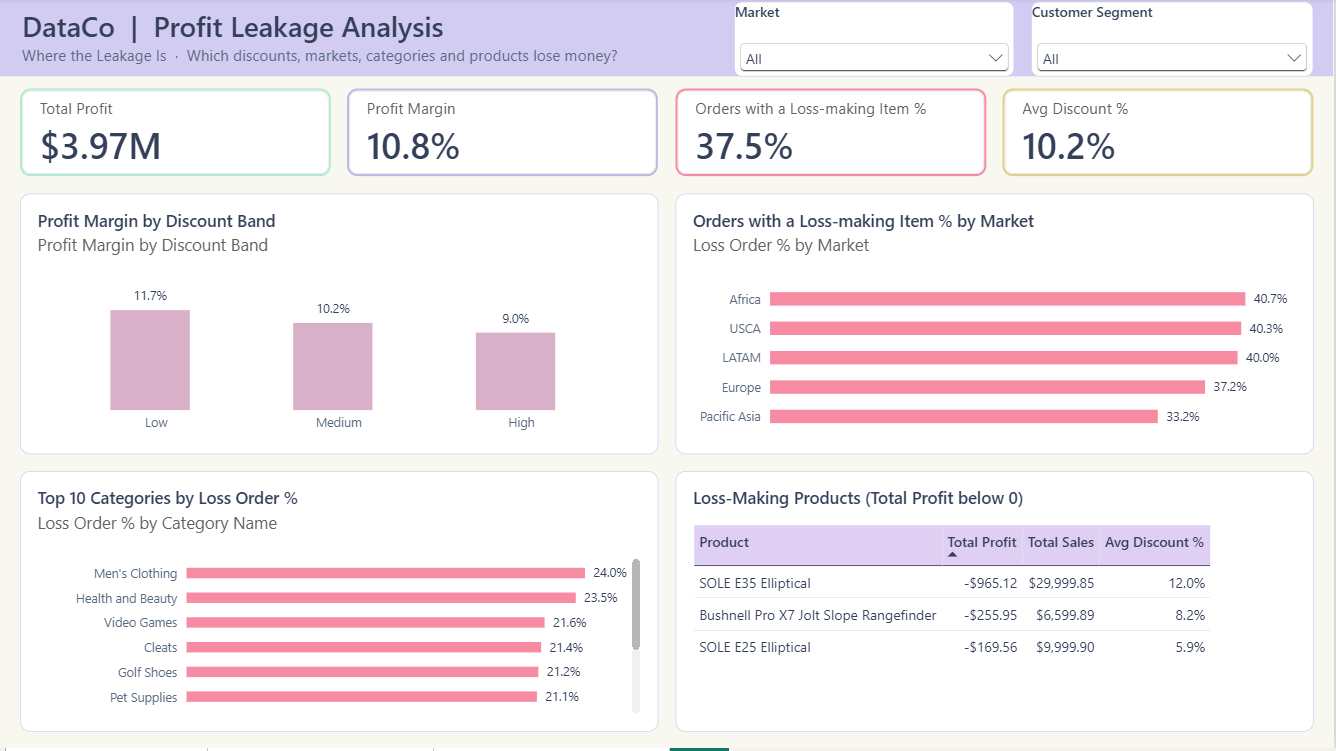

Layout of this report page (visuals, bound fields, positions):
{"tool":"powerbi","page":{"name":"Where the Leakage Is","canvas":[1280,720],"ordinal":2},"visuals":[{"type":"textbox","box":[0,0,1280,76],"z":0},{"type":"slicer","title":"Market","fields":{"Values":["DataCo_Orders.Market"]},"box":[704.7,4.3,268.9,71.9],"z":3000},{"type":"slicer","title":"Customer Segment","fields":{"Values":["DataCo_Orders.Customer Segment"]},"box":[989.4,4.3,270.4,71.9],"z":4000},{"type":"cardVisual","fields":{"Data":["DataCo_Orders.Total_Profit"]},"box":[20,88,298,84],"z":10000},{"type":"cardVisual","fields":{"Data":["DataCo_Orders.Profit_Margin"]},"box":[334,88,298,84],"z":11000},{"type":"cardVisual","fields":{"Data":["DataCo_Orders.Loss Order %"]},"box":[648,88,298,84],"z":12000},{"type":"cardVisual","fields":{"Data":["DataCo_Orders.Avg_Discount_Percentage"]},"box":[962,88,298,84],"z":13000},{"type":"clusteredColumnChart","title":"Profit Margin by Discount Band","fields":{"Category":["DataCo_Orders.Discount Band"],"Y":["DataCo_Orders.Profit_Margin"]},"box":[20,188,612,250],"z":20000},{"type":"clusteredBarChart","title":"Orders with a Loss-making Item % by Market","fields":{"Category":["DataCo_Orders.Market"],"Y":["DataCo_Orders.Loss Order %"]},"box":[648,188,612,250],"z":21000},{"type":"clusteredBarChart","title":"Top 10 Categories by Loss Order %","fields":{"Category":["DataCo_Orders.Category Name"],"Y":["DataCo_Orders.Loss Order %"]},"box":[20,454,612,250],"z":22000},{"type":"tableEx","title":"Loss-Making Products (Total Profit below 0)","fields":{"Values":["DataCo_Orders.Product Name","DataCo_Orders.Total_Profit","DataCo_Orders.Total Sales","DataCo_Orders.Avg_Discount_Percentage"]},"box":[648,454,612,250],"z":23000}]}

Visuals, with their boxes in screenshot pixels (x1, y1, x2, y2), scaled from the page's 1280x720 canvas onto the 1336x751 screenshot:
textbox: box(0, 0, 1335, 79)
"Market" slicer: box(736, 4, 1016, 79)
"Customer Segment" slicer: box(1033, 4, 1315, 79)
cardVisual - DataCo_Orders.Total_Profit: box(21, 92, 332, 179)
cardVisual - DataCo_Orders.Profit_Margin: box(349, 92, 660, 179)
cardVisual - DataCo_Orders.Loss Order %: box(676, 92, 987, 179)
cardVisual - DataCo_Orders.Avg_Discount_Percentage: box(1004, 92, 1315, 179)
"Profit Margin by Discount Band" clusteredColumnChart: box(21, 196, 660, 457)
"Orders with a Loss-making Item % by Market" clusteredBarChart: box(676, 196, 1315, 457)
"Top 10 Categories by Loss Order %" clusteredBarChart: box(21, 474, 660, 734)
"Loss-Making Products (Total Profit below 0)" tableEx: box(676, 474, 1315, 734)
